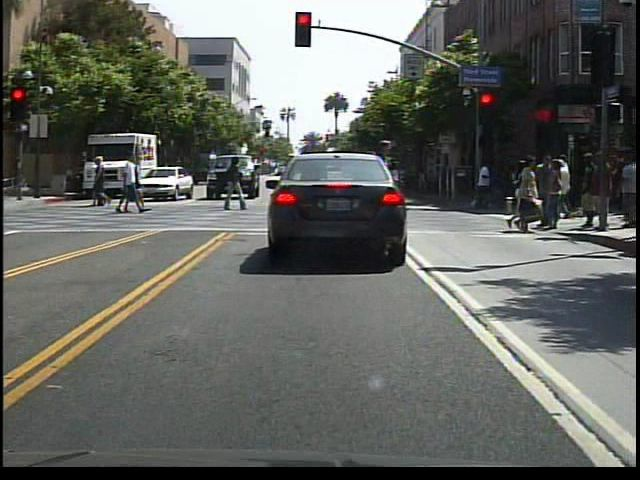person: (358, 117, 401, 248), (502, 154, 545, 239), (115, 154, 149, 223), (218, 156, 250, 214), (549, 153, 574, 224), (90, 155, 113, 213), (475, 156, 492, 218)
